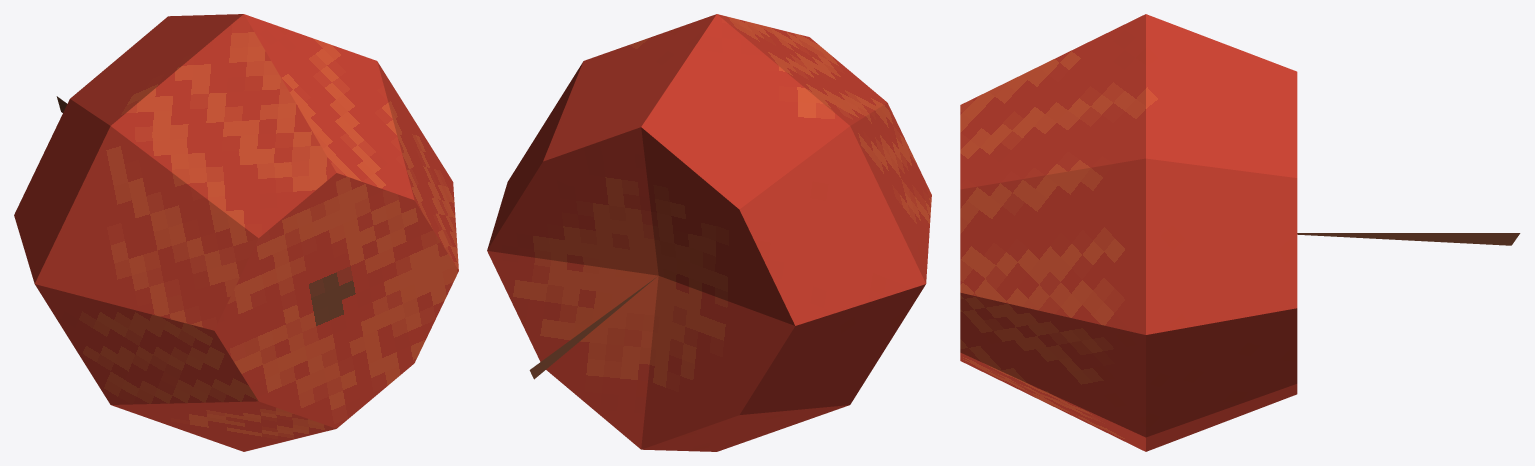
The model's file is apple.fbx.
3 views of the same model, side by side, from view 1: azimuth 30°, elevation 25°; view 2: azimuth 150°, elevation 25°; view 3: azimuth 270°, elevation 25° (orthographic).
Parts seen in each view (by area): view 1: Cube; view 2: Cube; view 3: Cube.
Boxes of the visible parts, left/top/right/bottom form: Cube: left=14, top=14, right=458, bottom=451; Cube: left=487, top=14, right=931, bottom=451; Cube: left=960, top=14, right=1520, bottom=451.
Size of the model in its own units: 164 by 164 by 190.
Materials: 1 (1 with a texture image).
